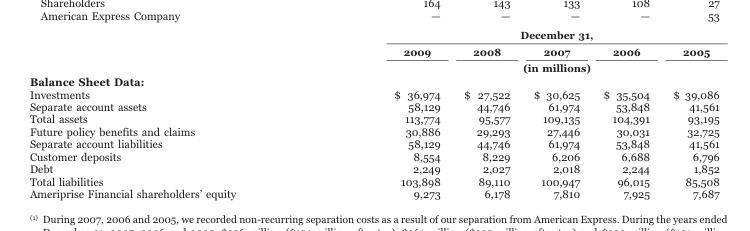table: (28, 28, 718, 199)
table column: (28, 28, 314, 199), (314, 28, 451, 199), (451, 28, 521, 199), (590, 28, 660, 199), (521, 28, 590, 199), (660, 28, 718, 199)
table column header: (28, 28, 718, 74)
table projected row header: (28, 74, 718, 87)
table row: (28, 42, 718, 59), (28, 59, 718, 74), (28, 28, 718, 42), (28, 74, 718, 87), (28, 99, 718, 112), (28, 124, 718, 137), (28, 149, 718, 162), (28, 174, 718, 187), (28, 87, 718, 99), (28, 112, 718, 124), (28, 137, 718, 149), (28, 162, 718, 174), (28, 187, 718, 199)
table spanning cell: (314, 59, 718, 74), (314, 28, 718, 42)
